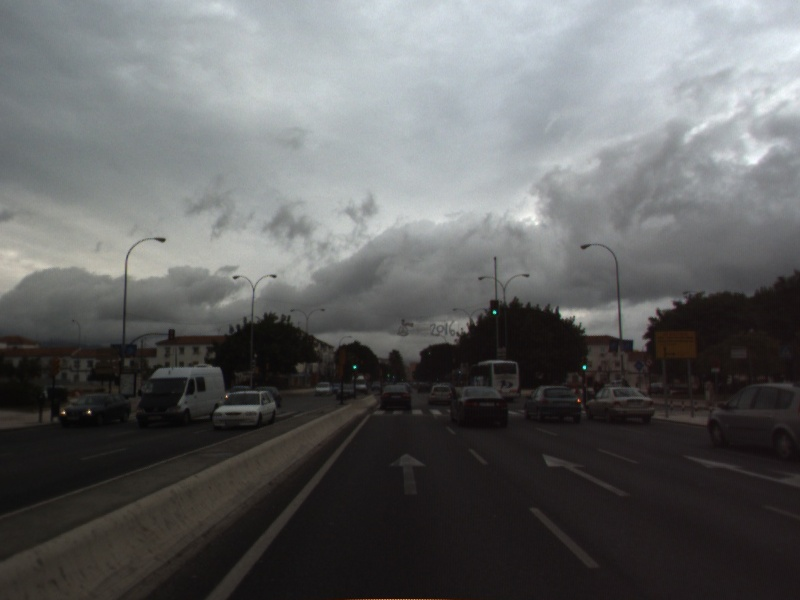STRAIGHT: (540, 451, 633, 499), (387, 451, 429, 497)
STRAIGHT_RIGHT: (680, 452, 800, 489)
